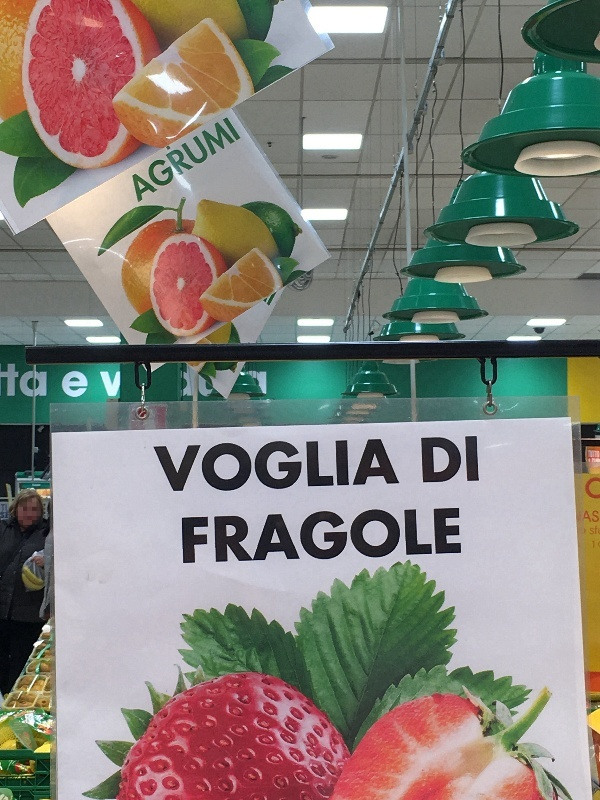text: (145, 111, 160, 213), (161, 111, 176, 213), (177, 111, 192, 213), (193, 111, 208, 213), (209, 111, 224, 213), (225, 111, 240, 213), (130, 111, 144, 213), (449, 506, 465, 572), (193, 506, 208, 572), (209, 506, 224, 572), (225, 506, 240, 572), (241, 506, 256, 572), (257, 506, 272, 572), (273, 506, 288, 572), (289, 506, 304, 572), (305, 506, 320, 572), (321, 506, 336, 572), (337, 506, 352, 572), (353, 506, 368, 572), (369, 506, 384, 572), (385, 506, 400, 572), (401, 506, 416, 572), (417, 506, 432, 572), (433, 506, 448, 572), (161, 433, 176, 496), (177, 433, 192, 496), (193, 433, 208, 496), (209, 433, 224, 496), (225, 433, 240, 496), (241, 433, 256, 496), (257, 433, 272, 496), (273, 433, 288, 496), (289, 433, 304, 496), (305, 433, 320, 496), (321, 433, 336, 496), (337, 433, 352, 496), (353, 433, 368, 496), (369, 433, 384, 496), (385, 433, 400, 496), (433, 433, 448, 488), (449, 433, 464, 488), (465, 433, 480, 488), (180, 506, 192, 572), (419, 433, 432, 488), (1, 358, 16, 401), (17, 358, 32, 401), (33, 358, 48, 401), (151, 433, 160, 496), (65, 368, 80, 401), (113, 369, 127, 400), (99, 369, 112, 400), (241, 111, 244, 213), (81, 368, 90, 401), (582, 507, 592, 527), (585, 474, 592, 502), (593, 474, 600, 502), (593, 507, 600, 527), (593, 524, 600, 538), (587, 524, 592, 538), (62, 368, 64, 401), (401, 433, 402, 496), (481, 433, 482, 488), (593, 538, 596, 552), (591, 538, 592, 552)
